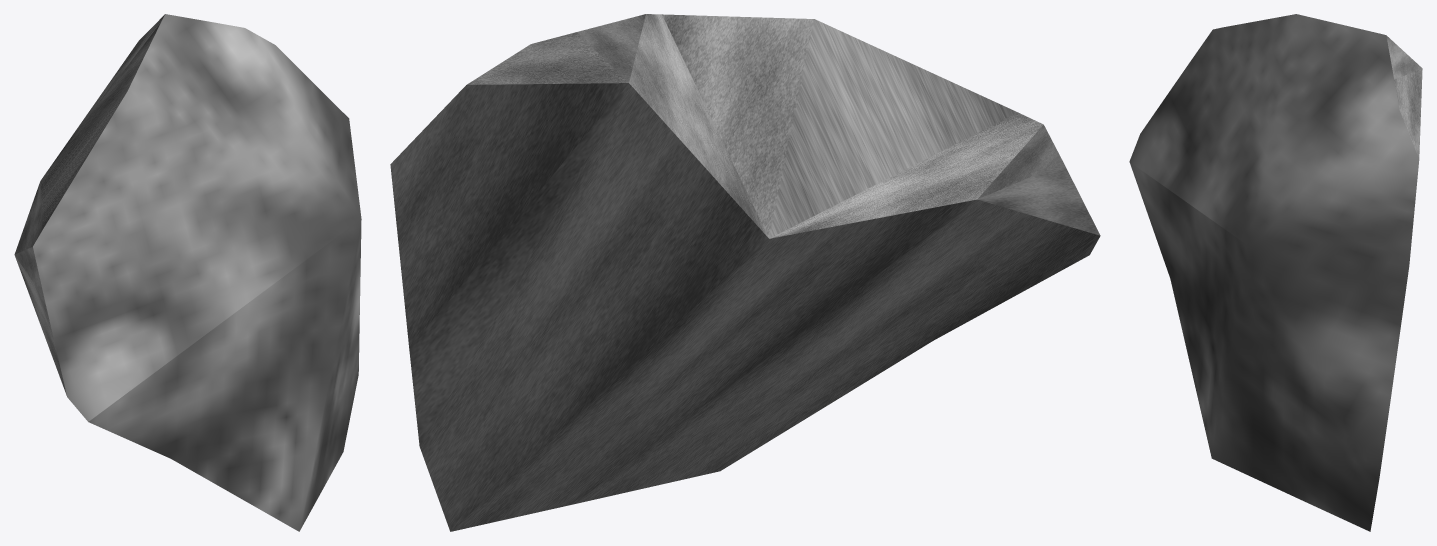
Rendered from body_cell_006.fbx.
3 renders of one model, left to right at view 1: azimuth 30°, elevation 25°; view 2: azimuth 150°, elevation 25°; view 3: azimuth 270°, elevation 25°, orthographic. The views are drawn at different scales.
Visible parts, largest first — view 1: body_cell.006; view 2: body_cell.006; view 3: body_cell.006.
Part boxes in pixels (<box>): body_cell.006: <box>14,14,361,531</box>; body_cell.006: <box>390,14,1100,531</box>; body_cell.006: <box>1129,14,1422,531</box>.
Size of the model in its own units: 26.57 by 27.77 by 17.44.
